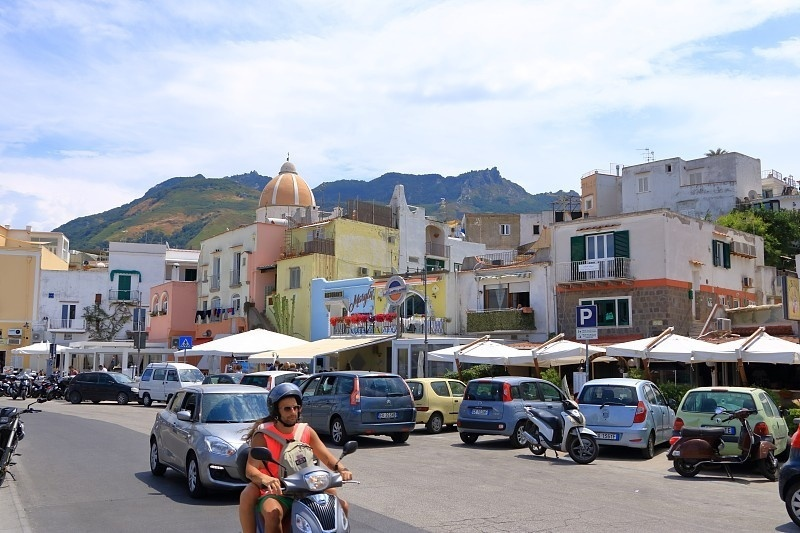non-vehicle: (248, 445, 352, 527), (667, 405, 774, 476), (515, 399, 597, 459), (0, 401, 34, 489), (777, 413, 800, 523)
